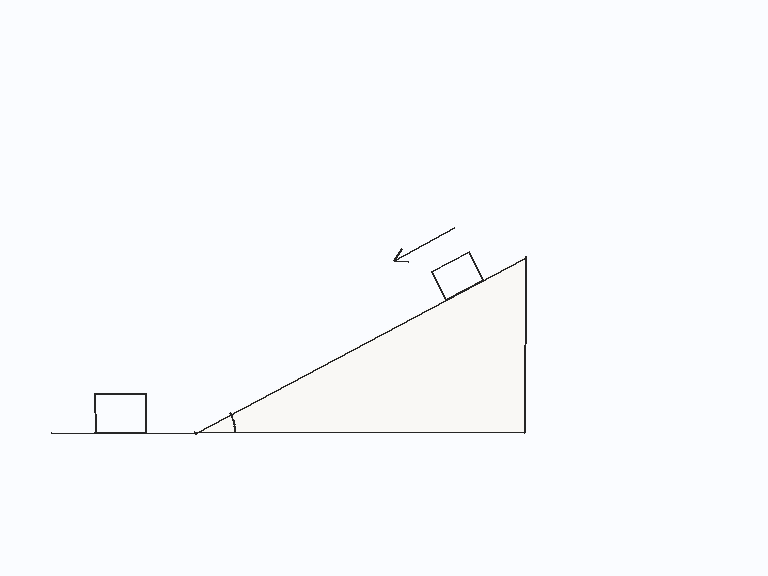block: (429, 250, 484, 301), (92, 393, 148, 434)
ramp: (193, 255, 525, 434)
